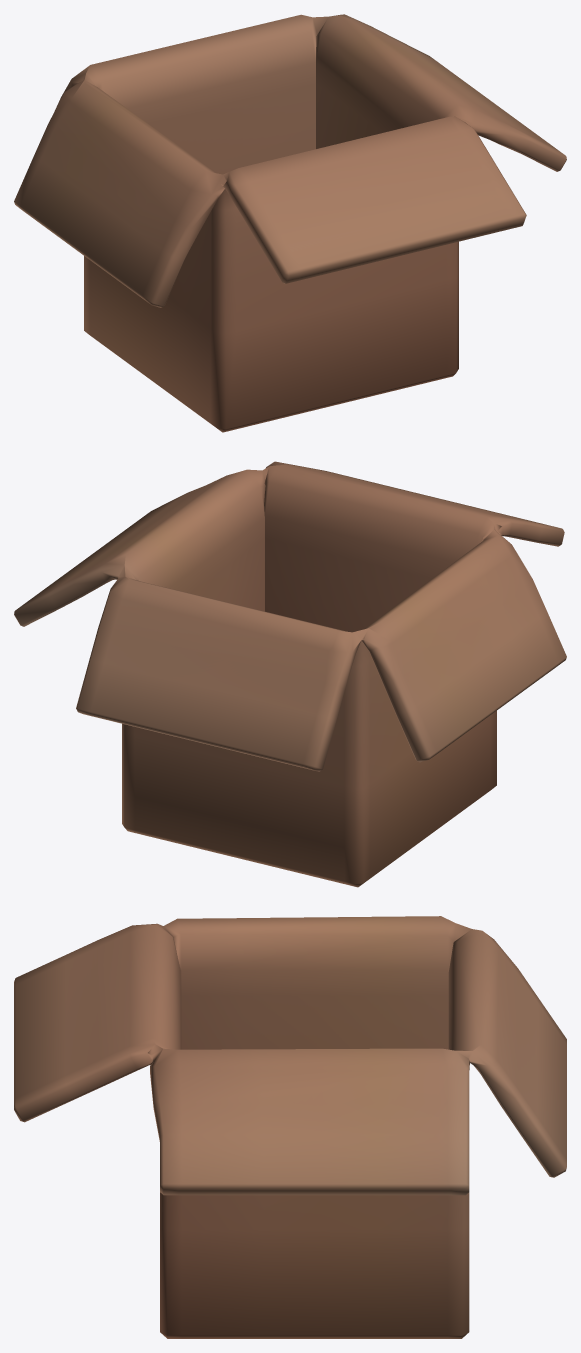
File: OpenedBox.fbx
3 views of the same model, one above another, from view 1: azimuth 30°, elevation 25°; view 2: azimuth 150°, elevation 25°; view 3: azimuth 270°, elevation 25° (orthographic). The views are drawn at different scales.
Parts seen in each view (by area): view 1: Cube.037; view 2: Cube.037; view 3: Cube.037.
Boxes of the visible parts, x1=… form: Cube.037: x1=14, y1=14, x2=566, y2=432; Cube.037: x1=14, y1=461, x2=566, y2=887; Cube.037: x1=14, y1=916, x2=566, y2=1338.
Bounding box in the file's own units: 3.45 × 2.12 × 3.58.
